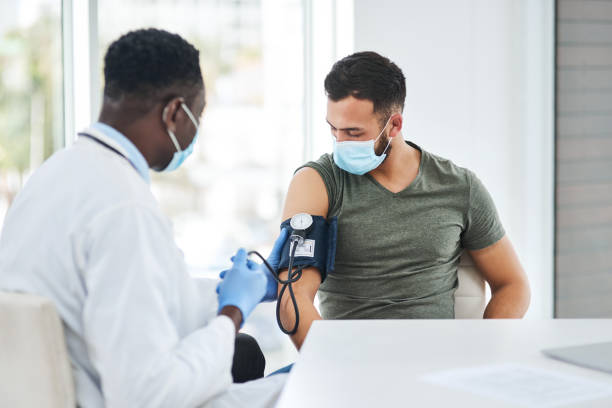with mask: (101, 26, 212, 176), (318, 66, 412, 177)
